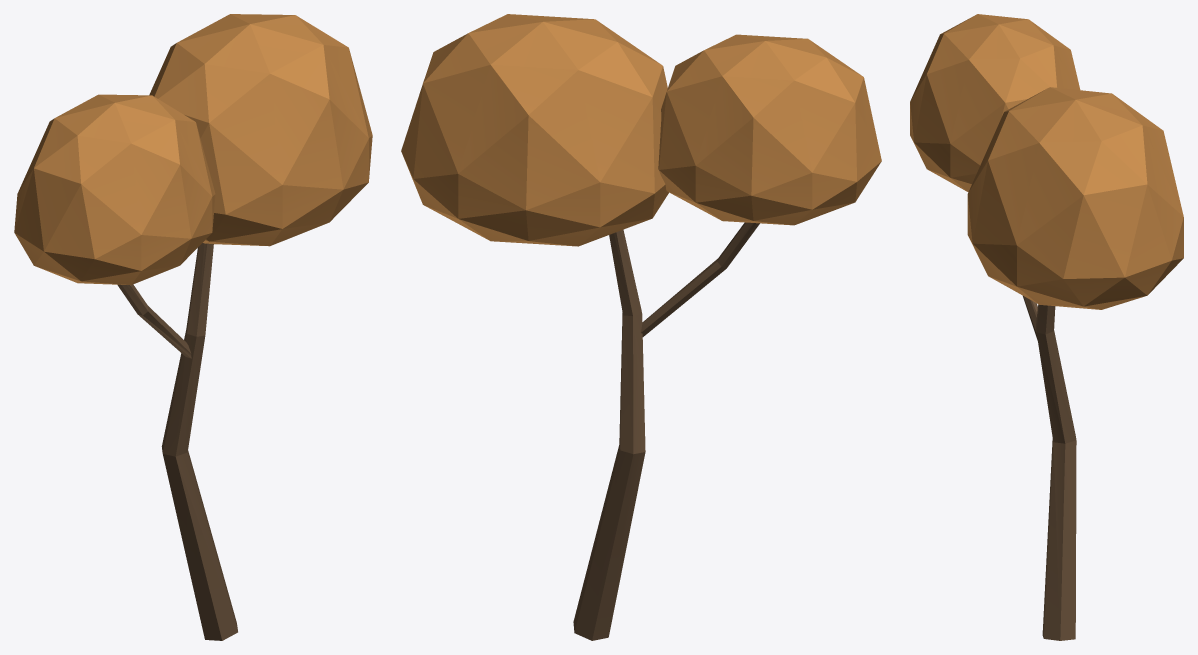
The model's file is tree_orange_5.glb.
3 views of the same model, side by side, from view 1: azimuth 30°, elevation 25°; view 2: azimuth 150°, elevation 25°; view 3: azimuth 270°, elevation 25° (orthographic). The views are drawn at different scales.
Parts seen in each view (by area): view 1: Tree Yellow 6.415; view 2: Tree Yellow 6.415; view 3: Tree Yellow 6.415.
Boxes of the visible parts, x1,y1,x2,y2 form: Tree Yellow 6.415: (14, 14, 372, 640); Tree Yellow 6.415: (401, 14, 881, 640); Tree Yellow 6.415: (910, 14, 1183, 640).
Bounding box in the file's own units: 0.183 × 0.2688 × 0.1193.
